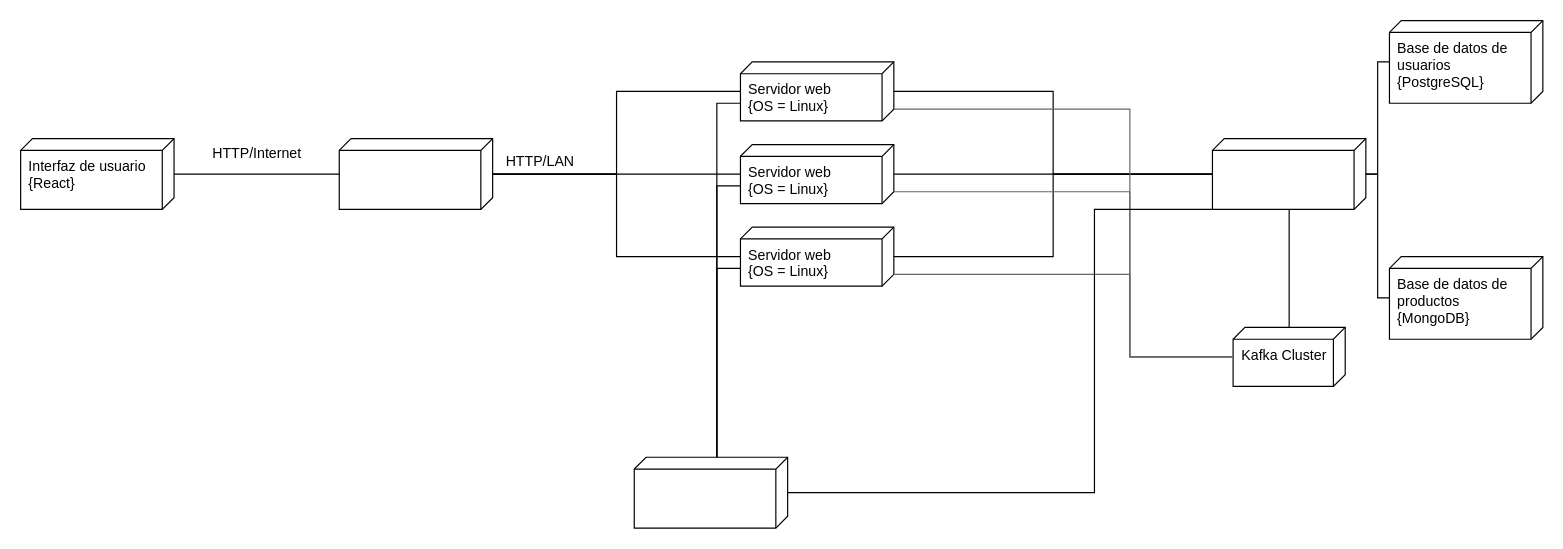
The diagram is 1563 pixels wide and 549 high, and some of its shapes have lost their labels. Here are the shapes that lost their labels. From the top down, the centre of each, then its label:
At point 415,173: "Balanceador de carga NGINX".
At point 1288,173: "Servidor backend {Java Spring}".
At point 710,492: "Servidor de archivos".
